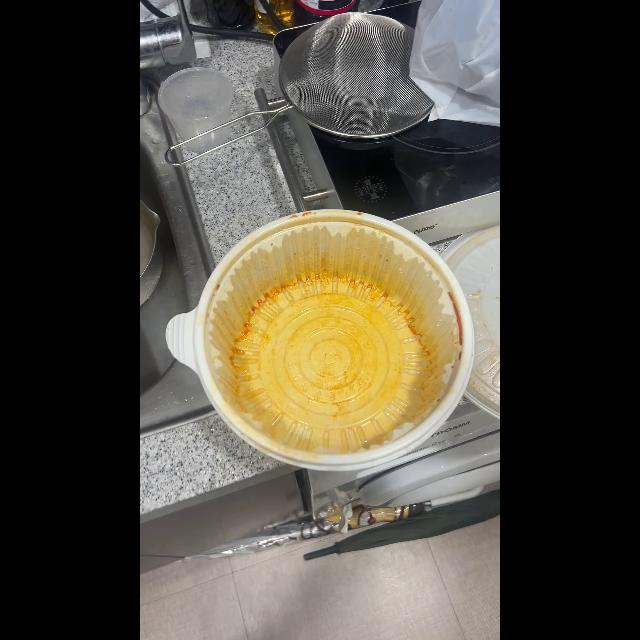dirty: (200, 214, 472, 458)
